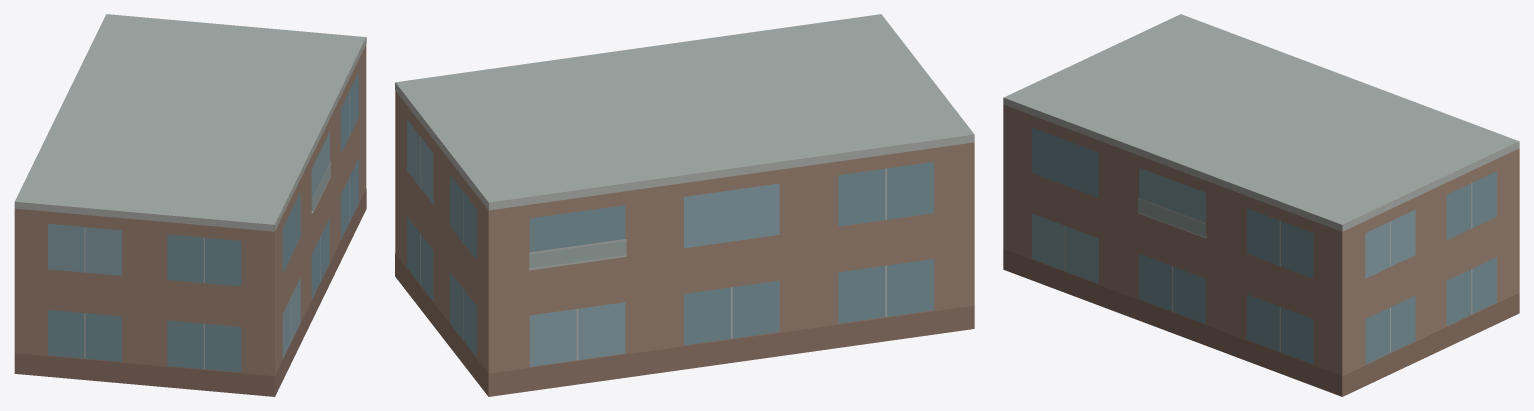
File: survey-upis-32928063.glb
3 renders of one model, left to right at view 1: azimuth 30°, elevation 25°; view 2: azimuth 150°, elevation 25°; view 3: azimuth 270°, elevation 25°, orthographic. The views are drawn at different scales.
Parts seen in each view (by area): view 1: survey-upis-32928063.tmp; view 2: survey-upis-32928063.tmp; view 3: survey-upis-32928063.tmp.
Boxes of the visible parts, x1,y1,x2,y2 form: survey-upis-32928063.tmp: (14,14,366,396); survey-upis-32928063.tmp: (395,14,974,396); survey-upis-32928063.tmp: (1003,14,1519,396).
Bounding box in the file's own units: 16.06 × 6.1 × 16.6.
